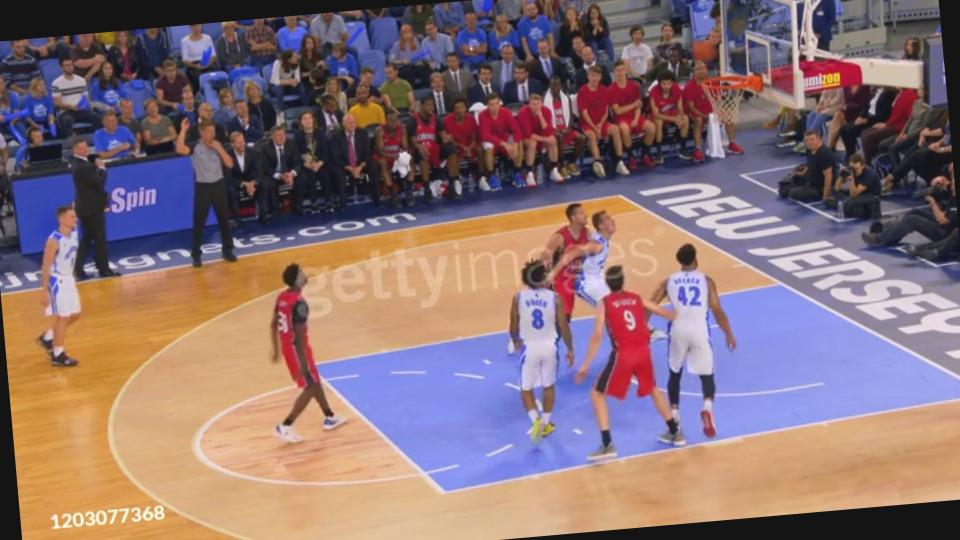hoop: (700, 70, 766, 99)
